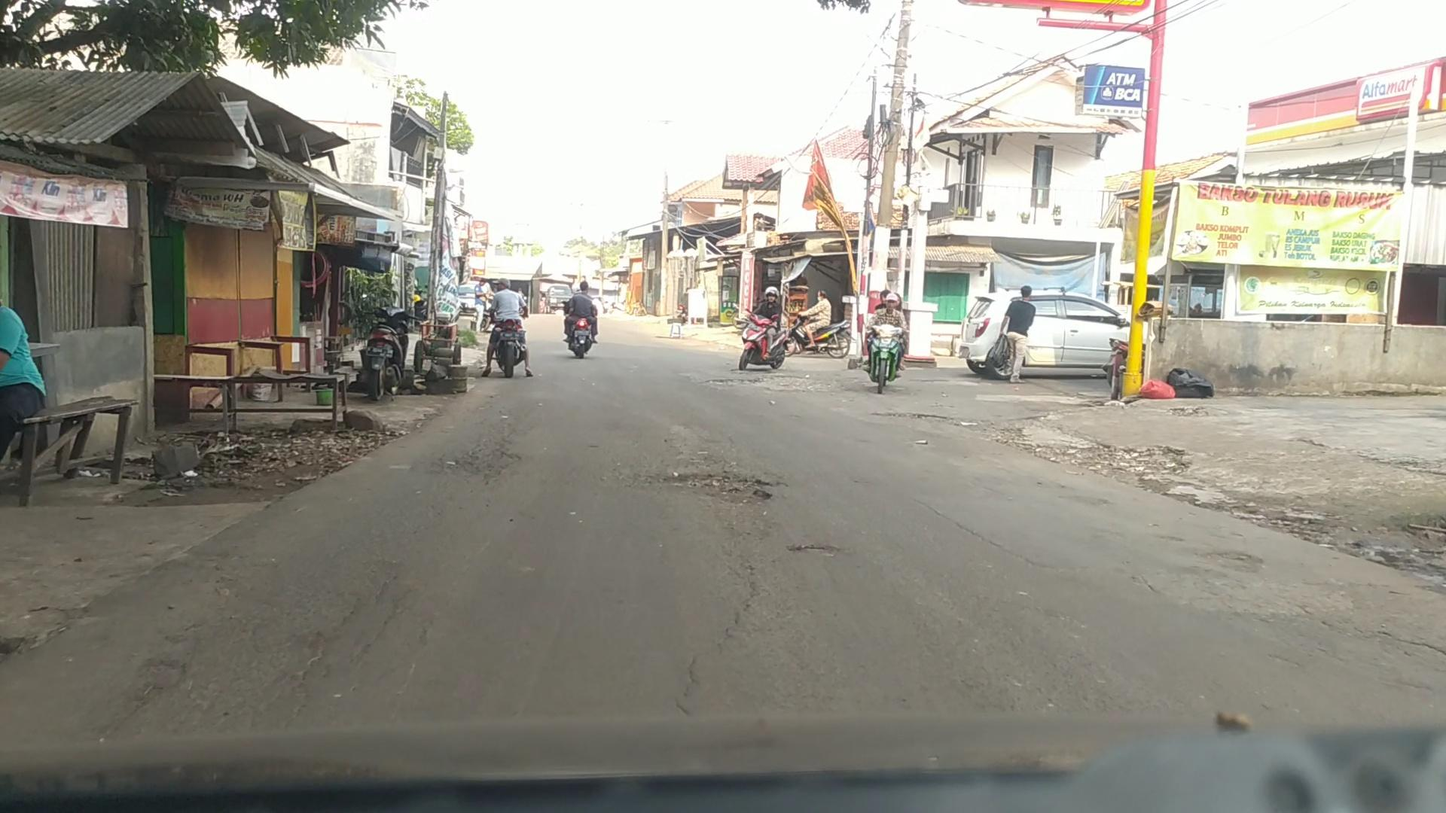pothole: (659, 468, 770, 505)
